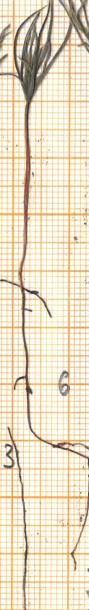flower: (10, 1, 73, 103)
root: (15, 289, 89, 568)
stem: (15, 104, 42, 287)
